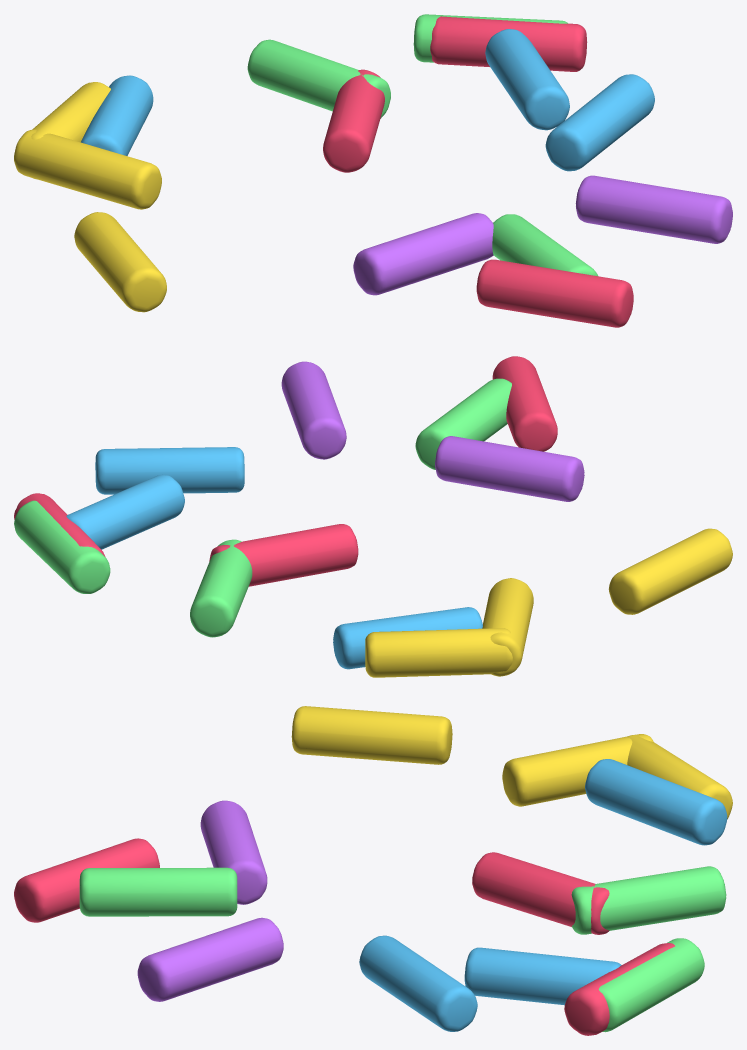
The model's file is SprinklePile.glb.
3 renders of one model, top to bottom at view 1: azimuth 30°, elevation 25°; view 2: azimuth 150°, elevation 25°; view 3: azimuth 270°, elevation 25°, orthographic. The views are drawn at different scales.
Visible parts, largest first — view 1: SprinklePile.001; view 2: SprinklePile.001; view 3: SprinklePile.001.
Boxes of the visible parts, x1,y1,x2,y2 form: SprinklePile.001: [14, 14, 732, 327]; SprinklePile.001: [14, 356, 732, 677]; SprinklePile.001: [14, 706, 732, 1035].
Size of the model in its own units: 1.35 by 0.094 by 1.37.
